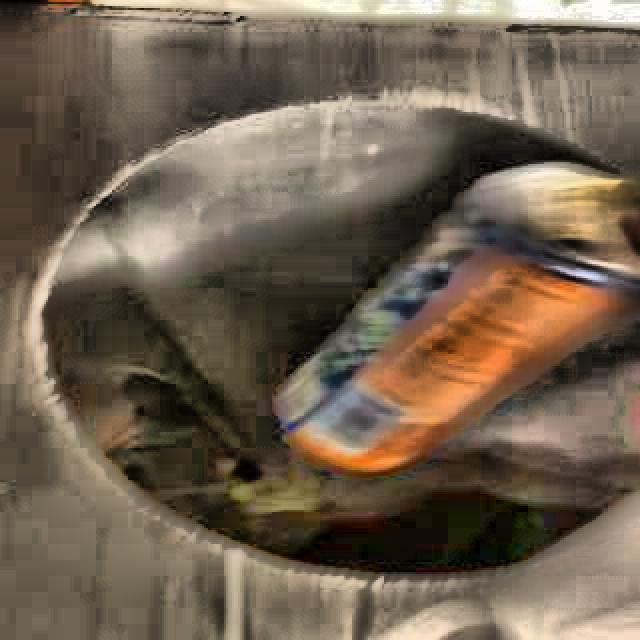metal: (277, 162, 640, 473)
